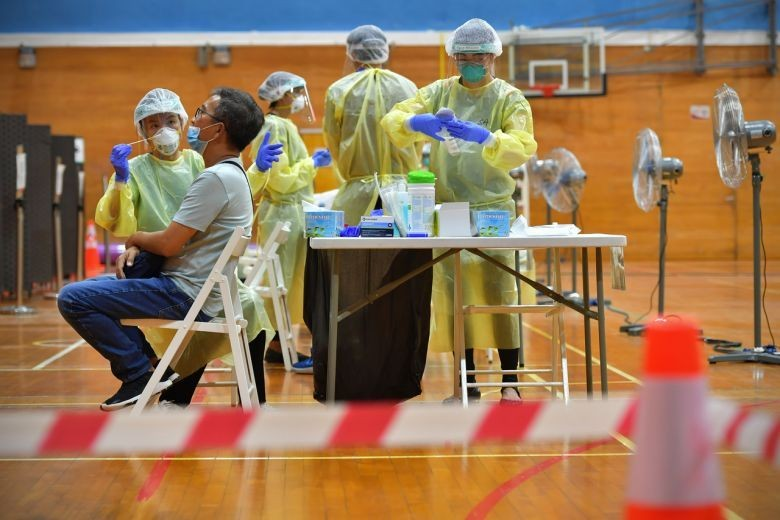Coverall: (405, 75, 543, 362), (323, 68, 429, 290), (101, 149, 209, 304), (244, 119, 317, 328)
Face_Shield: (443, 41, 497, 91), (278, 78, 315, 123)
Gloves: (409, 107, 453, 140), (253, 129, 283, 175), (447, 114, 493, 142), (109, 138, 136, 183)
mask_weared_incorrect: (188, 98, 222, 157)
with_mask: (151, 118, 180, 156), (460, 55, 487, 82), (289, 96, 306, 114)
